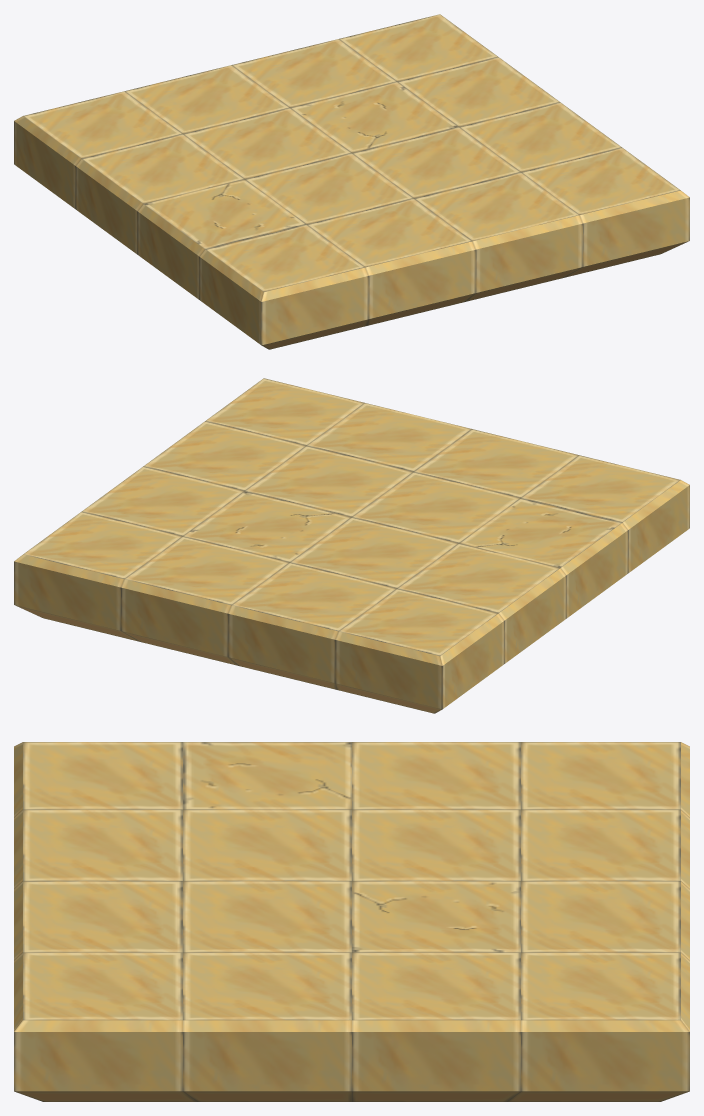
Rendered from platform3.fbx.
The picture shows the model from 3 angles, top to bottom: view 1: azimuth 30°, elevation 25°; view 2: azimuth 150°, elevation 25°; view 3: azimuth 270°, elevation 25°; orthographic projection. The views are drawn at different scales.
Visible parts, largest first — view 1: Platform3; view 2: Platform3; view 3: Platform3.
Part boxes in pixels (box(x1,y1,x2,y2)): Platform3: box(14, 14, 689, 349); Platform3: box(14, 378, 689, 713); Platform3: box(14, 742, 689, 1101).
Size of the model in its own units: 400 by 58.9 by 400.
1 material, 1 textured.
